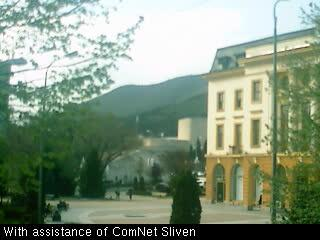person: (257, 193, 263, 210), (127, 189, 133, 201), (114, 189, 120, 201)
